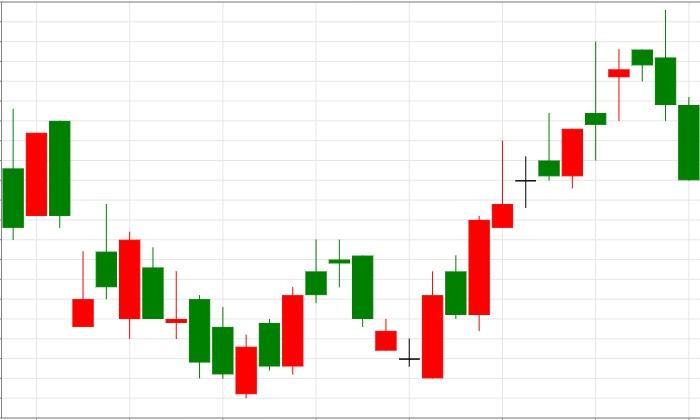shooting_star_fall: (422, 112, 560, 378)
